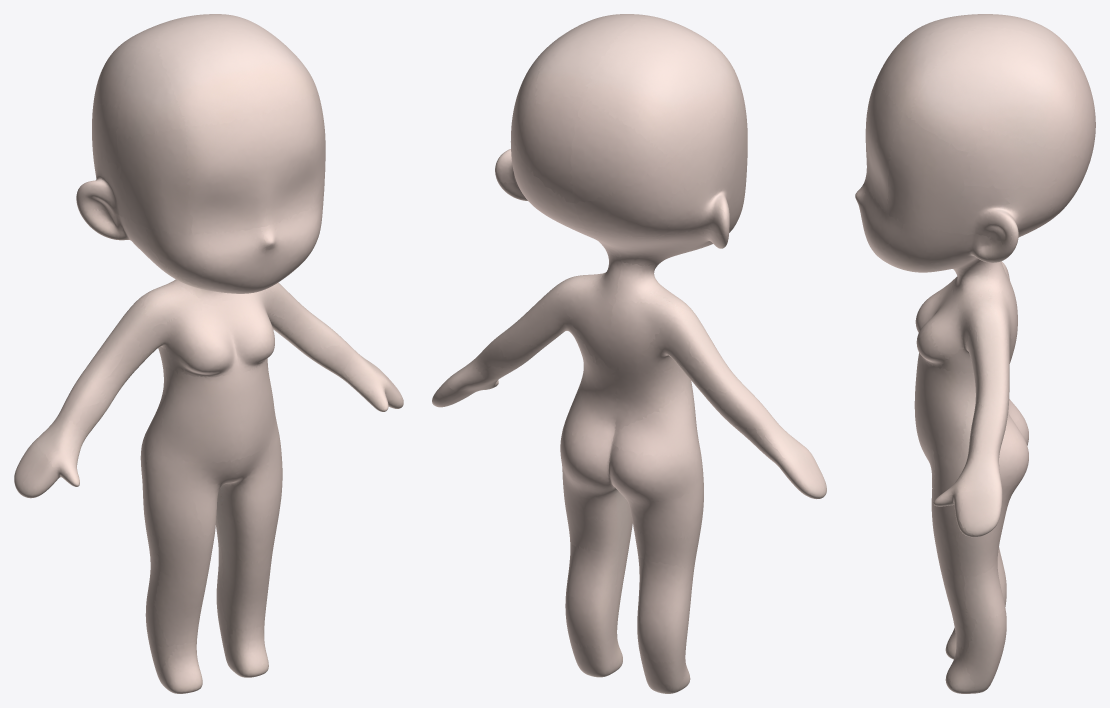
The model's file is char_yeoja_base_v11a.glb.
3 renders of one model, left to right at view 1: azimuth 30°, elevation 25°; view 2: azimuth 150°, elevation 25°; view 3: azimuth 270°, elevation 25°, orthographic.
Bounding box in the file's own units: 1.17 × 1.9 × 0.6415.
1 material, 1 textured.
